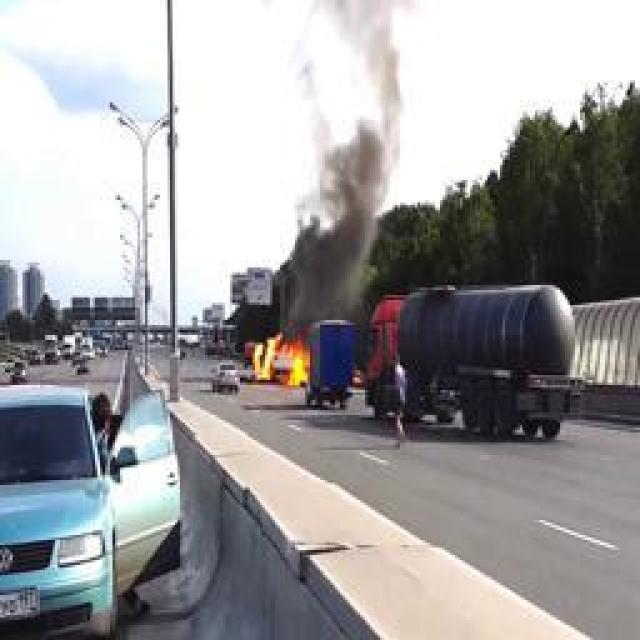Fire: (254, 331, 312, 389)
